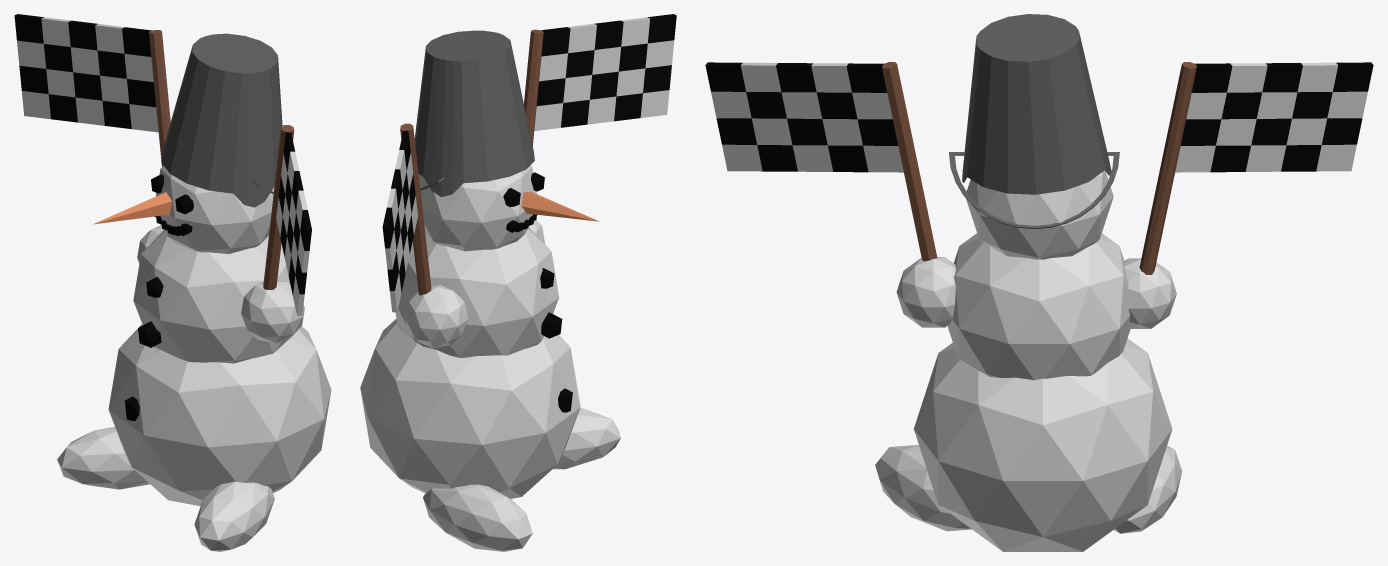
The model's file is SnowMan.fbx.
3 renders of one model, left to right at view 1: azimuth 30°, elevation 25°; view 2: azimuth 150°, elevation 25°; view 3: azimuth 270°, elevation 25°, orthographic. The views are drawn at different scales.
Parts seen in each view (by area): view 1: Snowman_bottom_part, Snowman_head_bucket, Snowman_mid_part, Right_flag, Left_flag; view 2: Snowman_bottom_part, Snowman_head_bucket, Snowman_mid_part, Left_flag, Right_flag; view 3: Snowman_bottom_part, Snowman_head_bucket, Snowman_mid_part, Right_flag, Left_flag.
Part boxes in pixels (box(x1,y1,x2,y2)): Snowman_bottom_part: box(57, 324, 331, 551); Snowman_head_bucket: box(93, 33, 282, 253); Snowman_mid_part: box(133, 225, 304, 363); Right_flag: box(14, 14, 170, 166); Left_flag: box(263, 125, 311, 315); Snowman_bottom_part: box(360, 319, 620, 551); Snowman_head_bucket: box(414, 30, 599, 251); Snowman_mid_part: box(395, 220, 562, 357); Left_flag: box(524, 14, 676, 145); Right_flag: box(382, 123, 431, 312); Snowman_bottom_part: box(875, 338, 1181, 551); Snowman_head_bucket: box(949, 14, 1119, 259); Snowman_mid_part: box(896, 233, 1176, 380); Right_flag: box(1139, 62, 1373, 274); Left_flag: box(705, 62, 937, 261).
Size of the model in its own units: 226 by 443 by 516.
